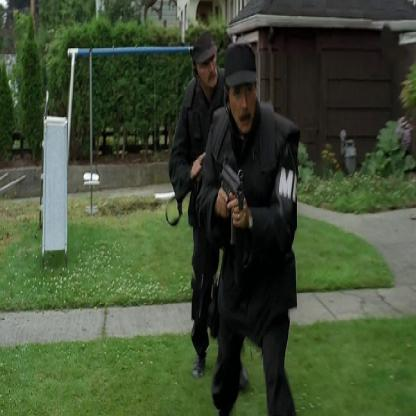Guns: (216, 154, 247, 250)
